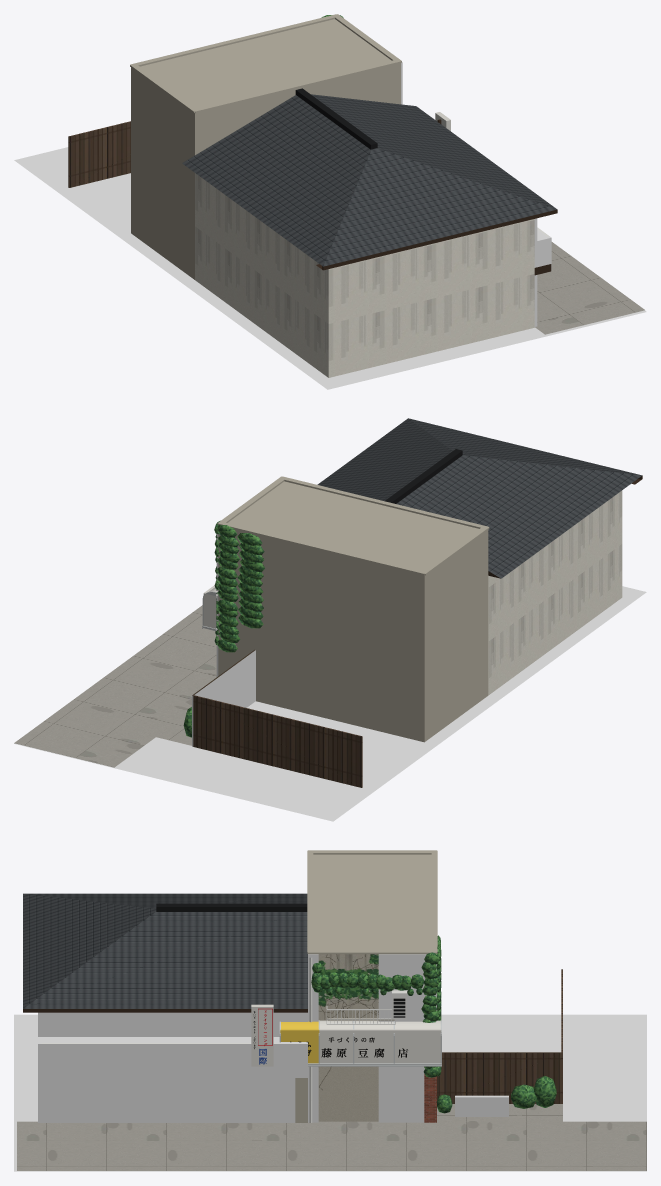
File: tofushop.glb
3 views of the same model, one above another, from view 1: azimuth 30°, elevation 25°; view 2: azimuth 150°, elevation 25°; view 3: azimuth 270°, elevation 25° (orthographic).
Parts seen in each view (by area): view 1: Shop, Massing, CLEAR_tofushop_clear, FOOTPRINT_tofushop_main, COL_balcony; view 2: Massing, Shop, CLEAR_tofushop_clear, COL_fence, FOOTPRINT_tofushop_main; view 3: Shop, COL_house, Massing, CLEAR_tofushop_clear, COL_balcony, COL_doors, COL_yardwall, COL_pier.
Boxes of the visible parts, x1,y1,x2,y2 form: Shop: (68,14,644,377); Massing: (131,19,391,377); CLEAR_tofushop_clear: (14,147,646,389); FOOTPRINT_tofushop_main: (127,231,536,379); COL_balcony: (534,229,551,270); Massing: (203,481,622,742); Shop: (14,418,642,787); CLEAR_tofushop_clear: (14,586,646,821); COL_fence: (192,650,255,746); FOOTPRINT_tofushop_main: (257,596,625,744); Shop: (17,850,646,1170); COL_house: (38,1012,307,1122); Massing: (280,854,441,1121); CLEAR_tofushop_clear: (14,1014,646,1171); COL_balcony: (38,1037,307,1077); COL_doors: (378,954,436,1122); COL_yardwall: (455,1095,508,1116); COL_pier: (308,954,318,1122).
Size of the model in its own units: 12.4 by 6.3 by 21.1.
26 materials, 12 textured.
